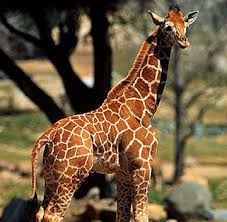Jirafa: (136, 1, 190, 113)
